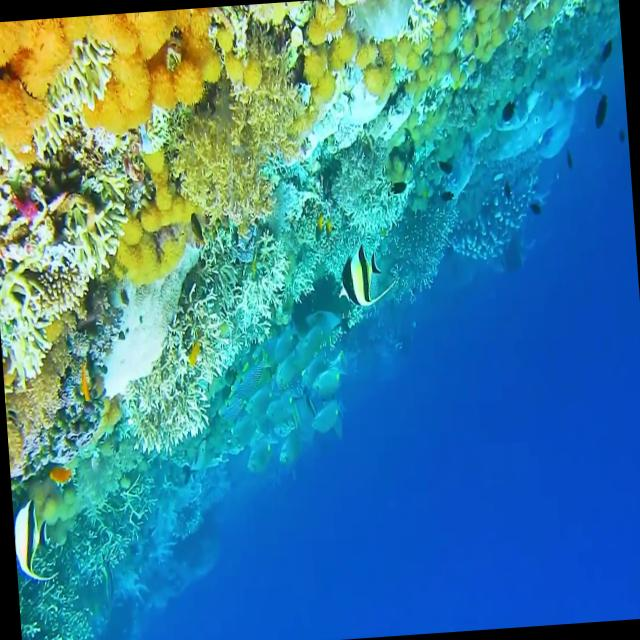fish: (12, 498, 51, 580), (336, 244, 381, 308)
